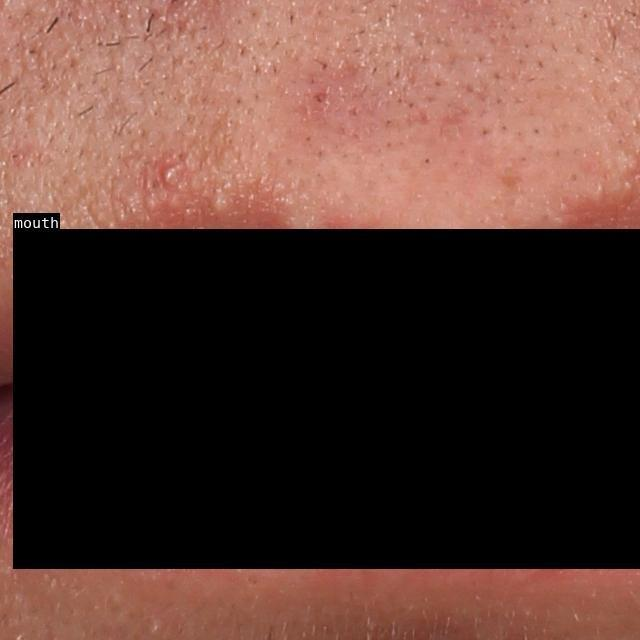pustule: (157, 163, 180, 190)
